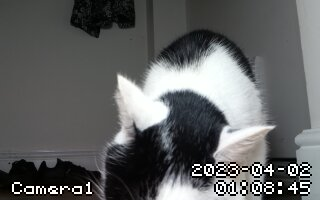bad: (103, 22, 271, 200)
